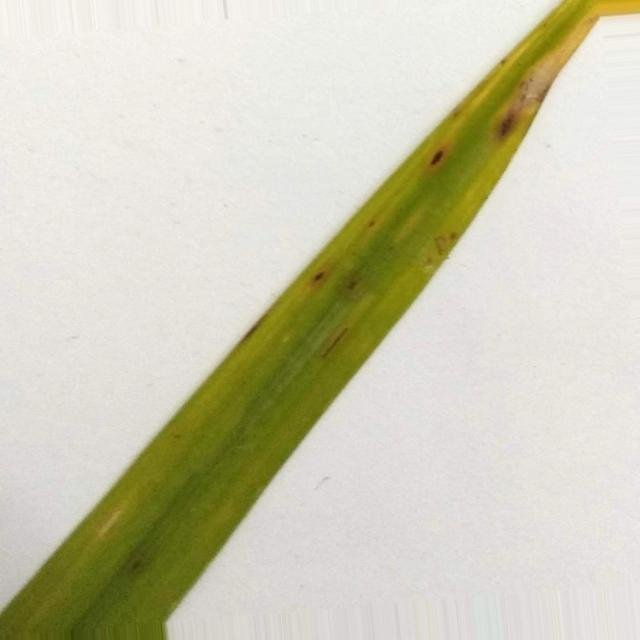Brown_Spot: (321, 328, 348, 358), (499, 108, 515, 138), (244, 320, 261, 340), (312, 270, 328, 286), (346, 274, 358, 291), (431, 150, 444, 164), (131, 556, 142, 572), (368, 220, 376, 229)
